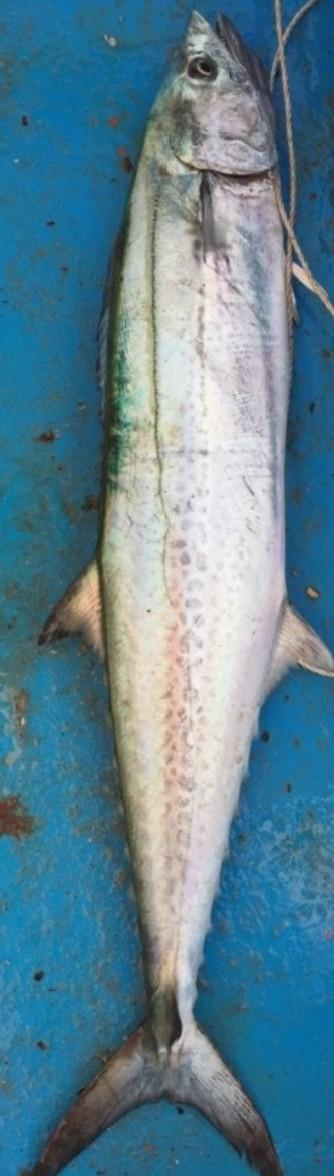fish: (23, 11, 333, 1175)
